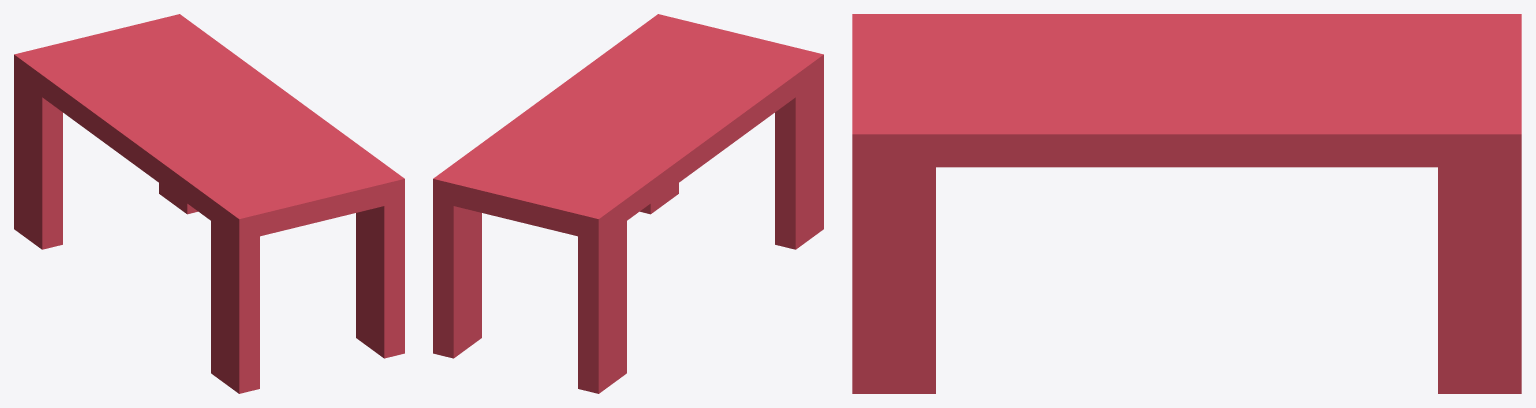
Rendered from officeDeskUV.fbx.
The picture shows the model from 3 angles, left to right: view 1: azimuth 30°, elevation 25°; view 2: azimuth 150°, elevation 25°; view 3: azimuth 270°, elevation 25°; orthographic projection. The views are drawn at different scales.
Parts seen in each view (by area): view 1: Cube.023; view 2: Cube.023; view 3: Cube.023.
Part boxes in pixels (x1,y1,x2,y2): Cube.023: (14,14,404,393); Cube.023: (433,14,823,393); Cube.023: (852,14,1521,393).
Size of the model in its own units: 85.02 by 85.65 by 200.
